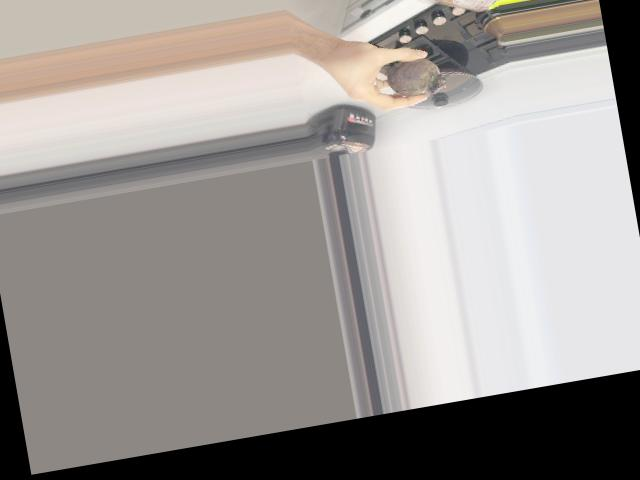beet: (381, 54, 448, 100)
